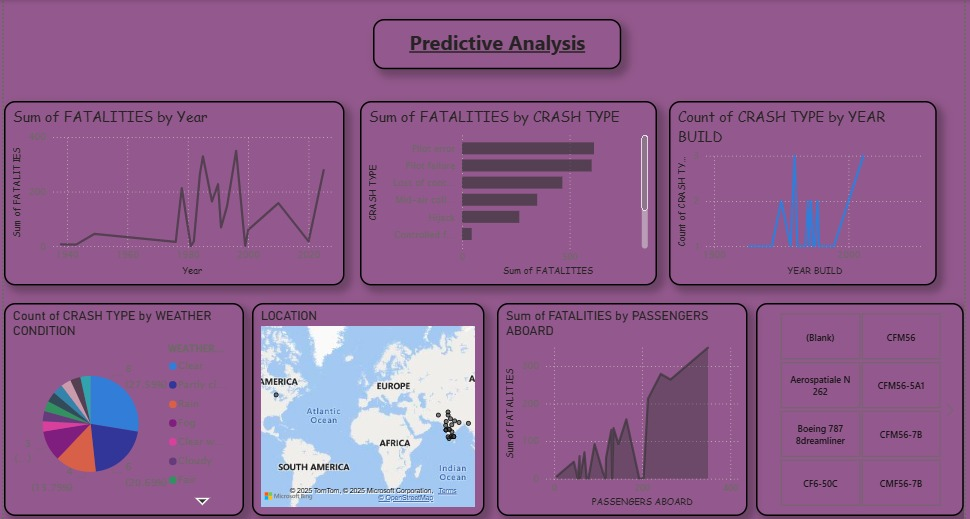

The page's visual inventory and layout, read from the dashboard file:
{"tool":"powerbi","page":{"name":"Predictive","canvas":[1280,720],"ordinal":3},"visuals":[{"type":"textbox","box":[491.4,25.7,331.4,67.1],"z":0},{"type":"slicer","fields":{"Values":["Sheet1.ENGINE TYPE"]},"box":[1002.9,404.3,277.1,284.3],"z":1000},{"type":"lineChart","fields":{"Category":["Sheet1.DATE.Variation.Date Hierarchy.Year"],"Y":["Sum(Sheet1.FATALITIES)"]},"box":[0,134.3,454.3,245.7],"z":2000},{"type":"map","fields":{"Category":["Sheet1.LOCATION"]},"box":[330,404.3,310,284.3],"z":3000},{"type":"barChart","fields":{"Y":["Sum(Sheet1.FATALITIES)"],"Category":["Sheet1.CRASH TYPE"]},"box":[474.3,134.3,395.7,245.7],"z":4000},{"type":"pieChart","fields":{"Category":["Sheet1.WEATHER CONDITION"],"Y":["CountNonNull(Sheet1.CRASH TYPE)"]},"box":[0,404.3,320,284.3],"z":5000},{"type":"stackedAreaChart","fields":{"Category":["Sheet1.PASSENGERS ABOARD"],"Y":["Sum(Sheet1.FATALITIES)"]},"box":[657.1,404.3,334.3,284.3],"z":6000},{"type":"lineChart","fields":{"Category":["Sheet1.YEAR BUILD"],"Y":["CountNonNull(Sheet1.CRASH TYPE)"]},"box":[887.1,134.3,357.1,245.7],"z":7000}]}

Visuals, with their boxes in screenshot pixels (x1, y1, x2, y2):
textbox: 377, 19, 620, 68
slicer - Sheet1.ENGINE TYPE: 753, 297, 956, 506
lineChart - Sheet1.DATE.Variation.Date Hierarchy.Year x Sum(Sheet1.FATALITIES): 15, 99, 349, 279
map - Sheet1.LOCATION: 258, 297, 486, 506
barChart - Sum(Sheet1.FATALITIES) x Sheet1.CRASH TYPE: 364, 99, 655, 279
pieChart - Sheet1.WEATHER CONDITION x CountNonNull(Sheet1.CRASH TYPE): 15, 297, 250, 506
stackedAreaChart - Sheet1.PASSENGERS ABOARD x Sum(Sheet1.FATALITIES): 498, 297, 744, 506
lineChart - Sheet1.YEAR BUILD x CountNonNull(Sheet1.CRASH TYPE): 667, 99, 930, 279
